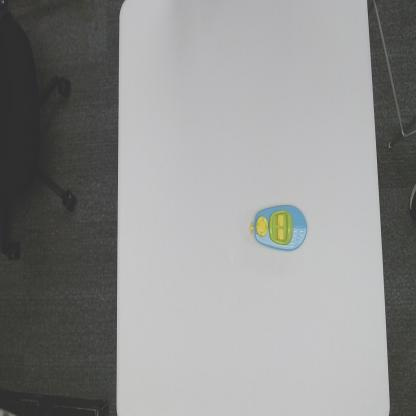Boat: (247, 198, 311, 258)
